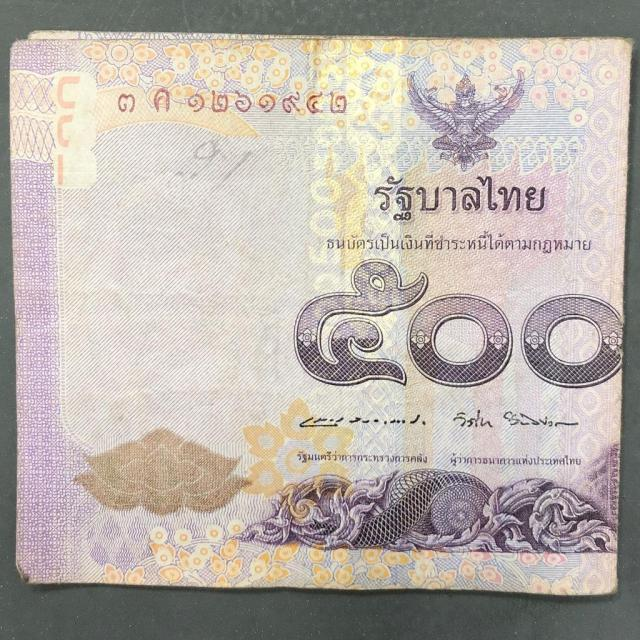THAI500: (10, 31, 632, 594)
